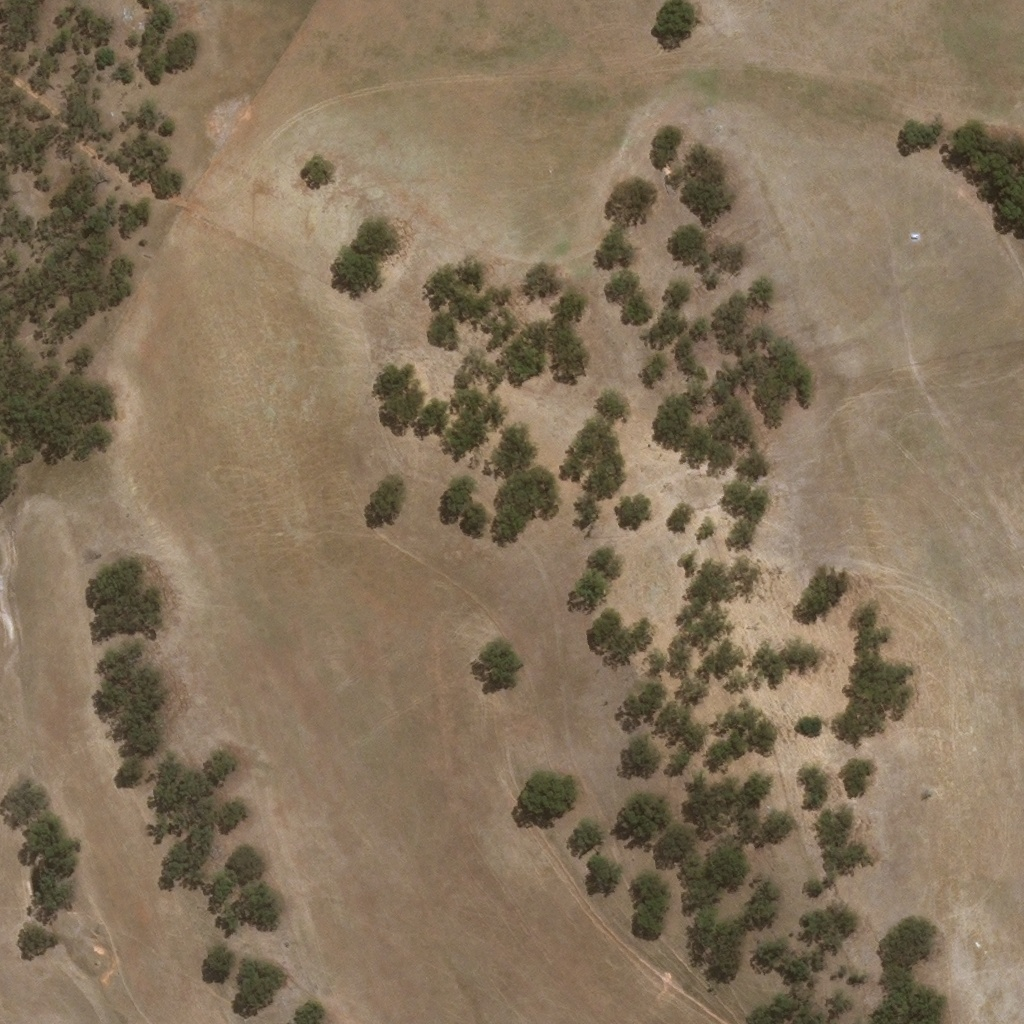0 no-damage: (908, 238, 914, 242)
